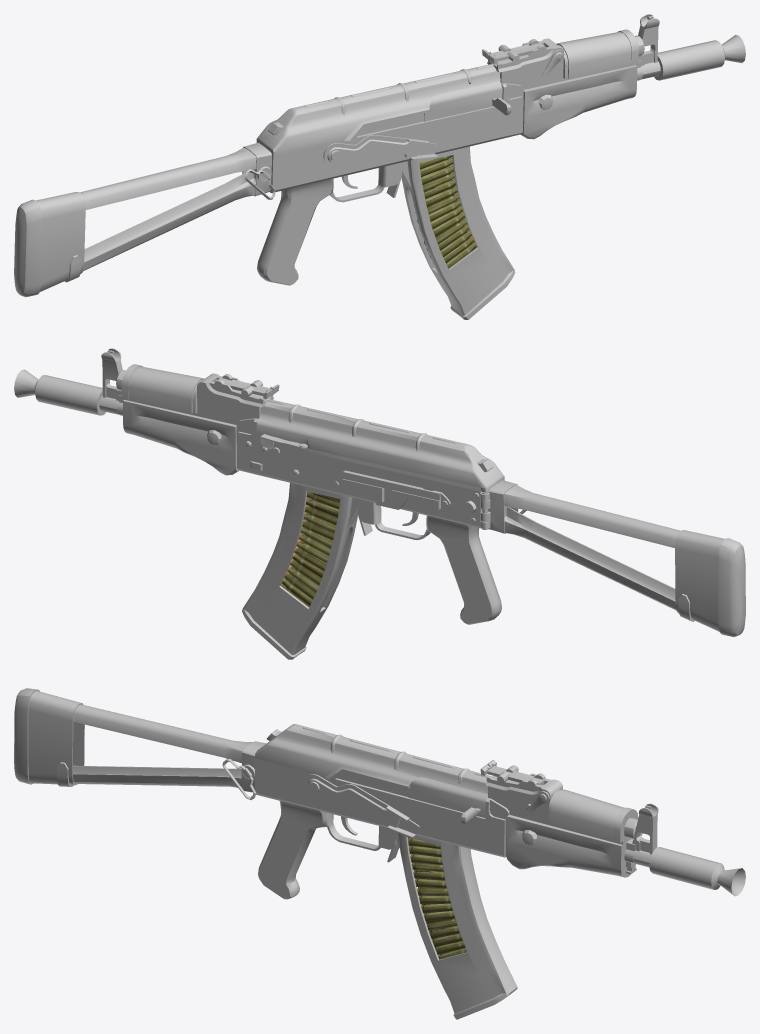
3 views of the same model, one above another, from view 1: azimuth 30°, elevation 25°; view 2: azimuth 150°, elevation 25°; view 3: azimuth 330°, elevation 25° (orthographic).
Visible parts, largest first — view 1: SMDImport03, SMDImport02, SMDImport01, SMDImport, SMDImport04, SMDImport05; view 2: SMDImport03, SMDImport02, SMDImport01, SMDImport; view 3: SMDImport03, SMDImport02, SMDImport01, SMDImport, SMDImport04, SMDImport05.
Boxes of the visible parts, x1,y1,x2,y2 form: SMDImport03: (14,14,660,297); SMDImport02: (400,146,515,319); SMDImport01: (414,155,476,268); SMDImport: (654,35,745,80); SMDImport04: (323,134,437,165); SMDImport05: (424,81,511,121); SMDImport03: (99,348,745,636); SMDImport02: (242,483,357,659); SMDImport01: (280,491,340,607); SMDImport: (14,369,105,415); SMDImport03: (14,688,658,899); SMDImport02: (394,831,517,1019); SMDImport01: (408,837,508,985); SMDImport: (649,847,745,896); SMDImport04: (304,774,419,837); SMDImport05: (408,777,487,824).
Bounding box in the file's own units: 28.62 × 9.74 × 2.48.
